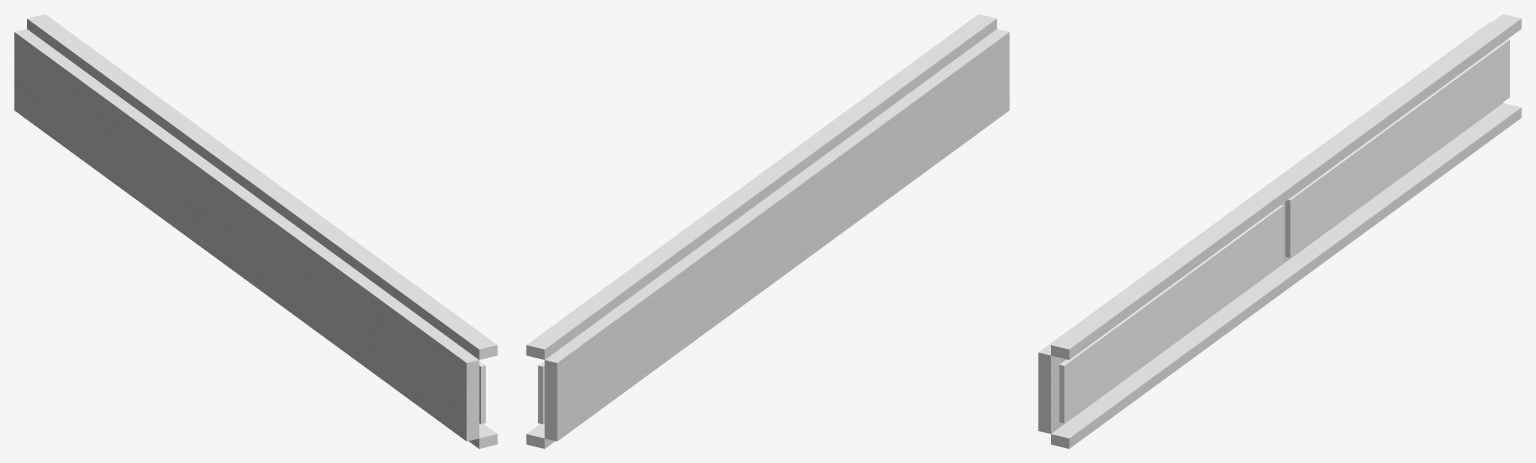
The model's file is recessedledchannel.obj.
3 views of the same model, side by side, from view 1: azimuth 30°, elevation 25°; view 2: azimuth 150°, elevation 25°; view 3: azimuth 330°, elevation 25° (orthographic).
Visible parts, largest first — view 1: Base, Metal; view 2: Base, Metal; view 3: Metal, Light1, Light0, Base.
Part boxes in pixels (x1=…): Base: x1=14, y1=29, x2=479, y2=441; Metal: x1=27, y1=14, x2=497, y2=448; Base: x1=544, y1=29, x2=1009, y2=441; Metal: x1=526, y1=14, x2=996, y2=448; Metal: x1=1051, y1=14, x2=1521, y2=448; Light1: x1=1059, y1=205, x2=1283, y2=423; Light0: x1=1285, y1=39, x2=1509, y2=257; Base: x1=1038, y1=21, x2=1503, y2=433.
Bounding box in the file's own units: 0.037 × 0.114 × 0.94.
